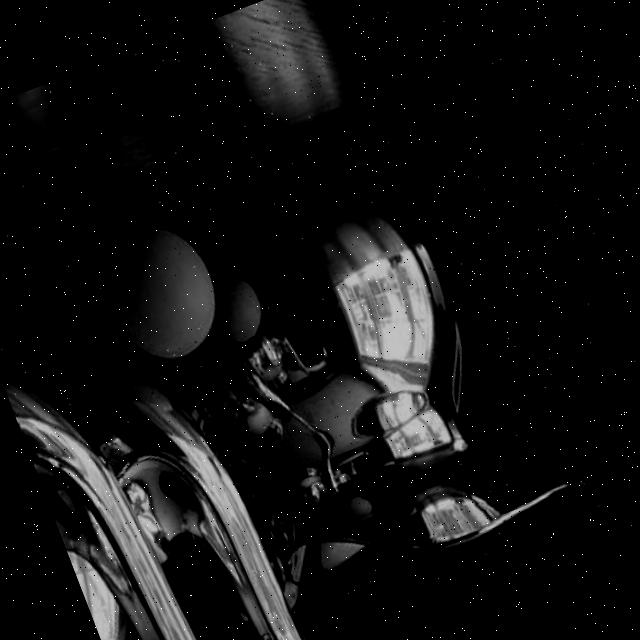ping-pong-ball: (84, 205, 235, 376)
